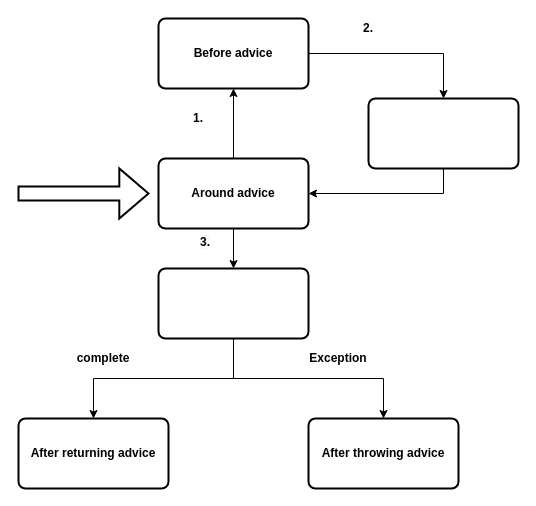
The diagram is 536 pixels wide and 506 high, and some of its shapes have lost their labels. Each missing label, with the centre of its shape:
"After advice" goes at [233,303].
"Method" goes at [443,133].
